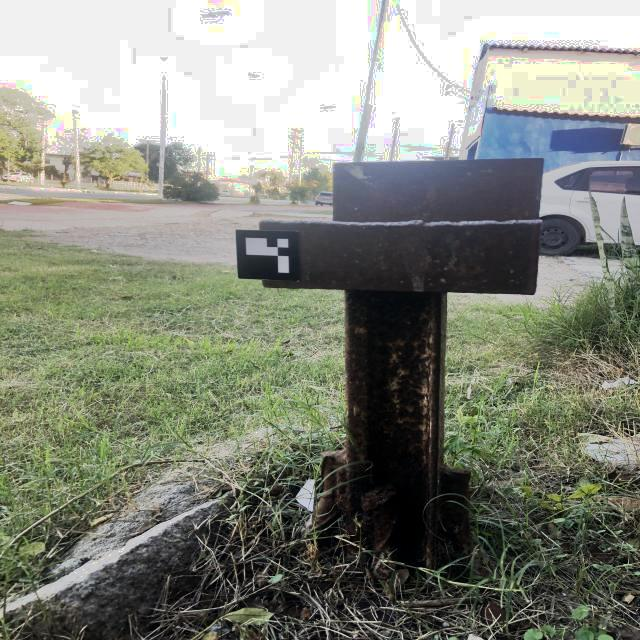Corrosion: (259, 158, 545, 582)
